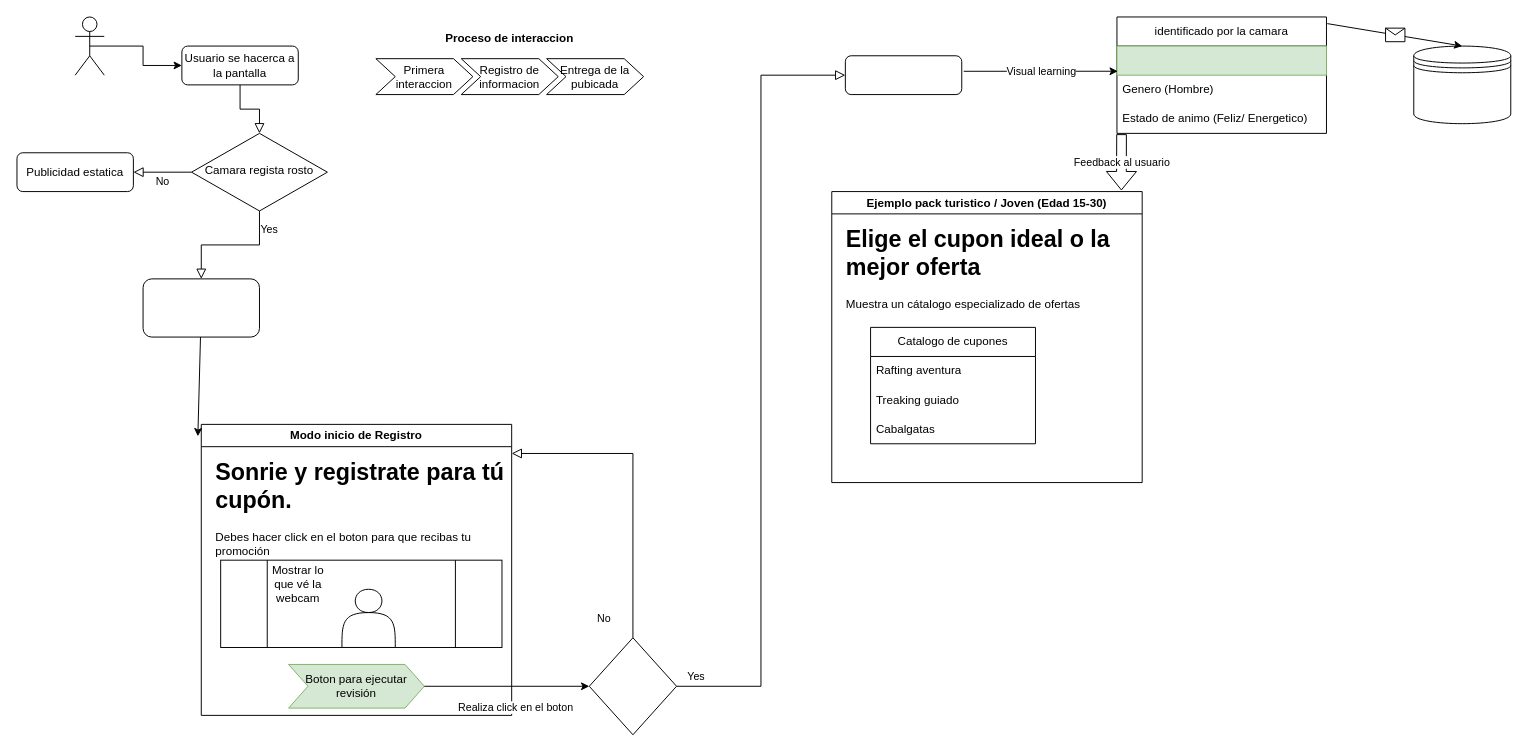
Some shapes in this 1528 by 753 pixel diagram are drawn without their labels. The shapes that lost their labels are listed below. From the top down, each one's centre as x and y in pixels, then its label:
(x=89, y=45): Actor
(x=1221, y=60): Edad (22 años)
(x=903, y=75): Proceso de entrega de publicidad
(x=1462, y=84): Perfil de los clientes
(x=200, y=307): Modo interaccion
(x=632, y=686): Se identificó alguien
